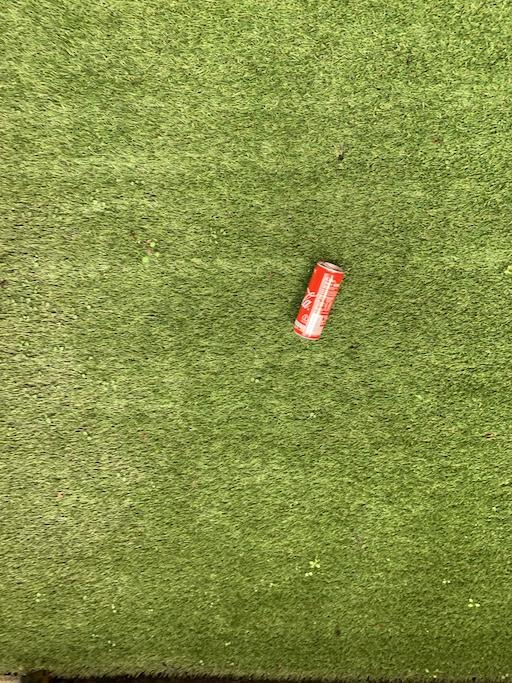Aluminum can: (272, 242, 360, 350)
